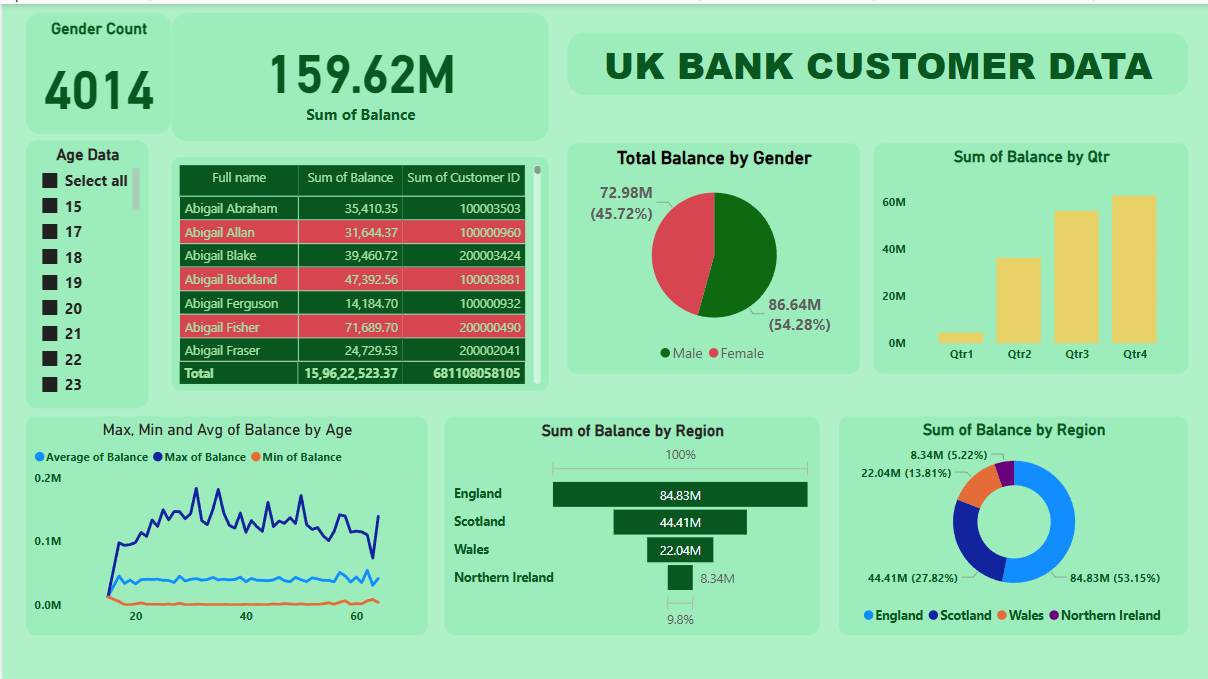

The dashboard page shown, as its layout file describes it:
{"tool":"powerbi","page":{"name":"Page 1","canvas":[1280,720],"ordinal":0},"visuals":[{"type":"pieChart","title":"Total Balance by Gender","fields":{"Category":["P6-UK-Bank-Customers.Gender"],"Y":["P6-UK-Bank-Customers.Balance"]},"box":[600,148,310,244],"z":0},{"type":"clusteredColumnChart","fields":{"Category":["P6-UK-Bank-Customers.Qtr","P6-UK-Bank-Customers.Year"],"Y":["P6-UK-Bank-Customers.Balance"]},"box":[924,148,334,244],"z":1000},{"type":"donutChart","fields":{"Category":["P6-UK-Bank-Customers.Region"],"Y":["P6-UK-Bank-Customers.Balance"]},"box":[888,438,370,232],"z":2000},{"type":"lineChart","title":" Max, Min and Avg of Balance by Age","fields":{"Category":["P6-UK-Bank-Customers.Age"],"Y":["P6-UK-Bank-Customers.Balance","Sum(P6-UK-Bank-Customers.Balance)1","Sum(P6-UK-Bank-Customers.Balance)2"]},"box":[26,438,426,232],"z":3000},{"type":"slicer","title":"Age Data","fields":{"Values":["P6-UK-Bank-Customers.Age"]},"box":[26,144,130,284],"z":4000},{"type":"card","fields":{"Values":["P6-UK-Bank-Customers.Balance"]},"box":[180,10,400,136],"z":5000},{"type":"card","title":"Gender Count","fields":{"Values":["P6-UK-Bank-Customers.Gender"]},"box":[26,10,154,128],"z":6000},{"type":"funnel","fields":{"Category":["P6-UK-Bank-Customers.Region"],"Y":["P6-UK-Bank-Customers.Balance"]},"box":[470,438,398,232],"z":7000},{"type":"textbox","title":"UK BANK CUSTOMER DATA","box":[600,30,658,66],"z":8000},{"type":"pivotTable","fields":{"Rows":["P6-UK-Bank-Customers.Full name"],"Values":["P6-UK-Bank-Customers.Balance","P6-UK-Bank-Customers.Customer ID"]},"box":[180,162,400,248],"z":9000}]}

Visuals, with their boxes in screenshot pixels (x1, y1, x2, y2), scaled from the page's 1280x720 canvas onto the 1208x679 screenshot:
"Total Balance by Gender" pieChart: [left=566, top=140, right=859, bottom=370]
clusteredColumnChart - P6-UK-Bank-Customers.Qtr x P6-UK-Bank-Customers.Year: [left=872, top=140, right=1187, bottom=370]
donutChart - P6-UK-Bank-Customers.Region x P6-UK-Bank-Customers.Balance: [left=838, top=413, right=1187, bottom=632]
" Max, Min and Avg of Balance by Age" lineChart: [left=25, top=413, right=427, bottom=632]
"Age Data" slicer: [left=25, top=136, right=147, bottom=404]
card - P6-UK-Bank-Customers.Balance: [left=170, top=9, right=547, bottom=138]
"Gender Count" card: [left=25, top=9, right=170, bottom=130]
funnel - P6-UK-Bank-Customers.Region x P6-UK-Bank-Customers.Balance: [left=444, top=413, right=819, bottom=632]
"UK BANK CUSTOMER DATA" textbox: [left=566, top=28, right=1187, bottom=91]
pivotTable - P6-UK-Bank-Customers.Full name x P6-UK-Bank-Customers.Balance: [left=170, top=153, right=547, bottom=387]
